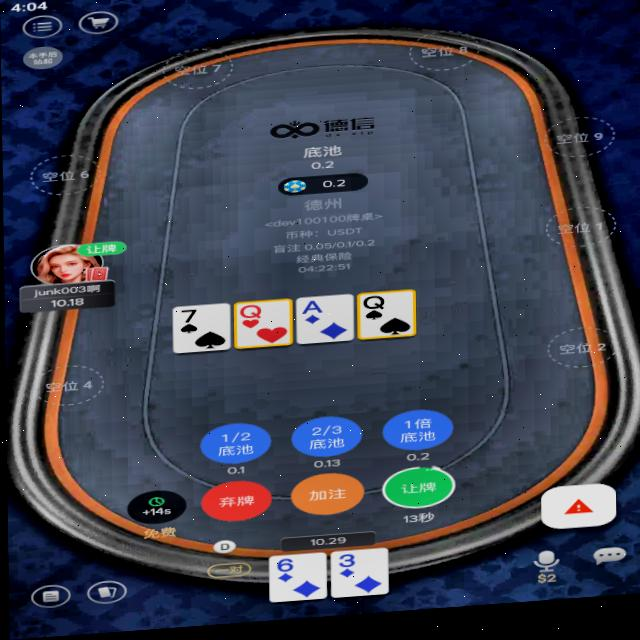3f: (332, 557, 358, 575)
6f: (269, 561, 298, 578)
7s: (173, 310, 203, 328)
Af: (296, 302, 328, 320)
Qh: (237, 306, 262, 325)
Qs: (359, 298, 390, 317)
